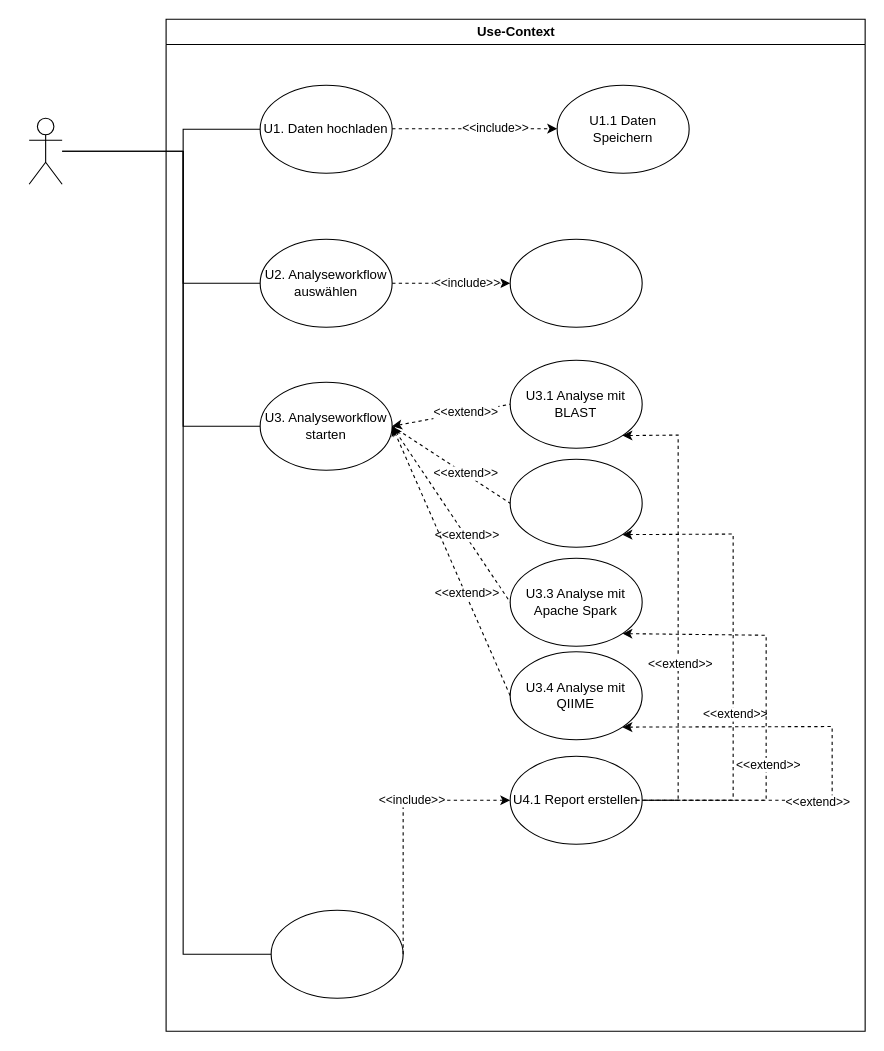
Some shapes in this 884 by 1051 pixel diagram are drawn without their labels. Each missing label, with the box of its shape:
Benutzer: (28, 117, 62, 184)
U2.1 Daten Auswählen / Parameter bestimmen: (509, 238, 642, 327)
U3.2 Analyse mit Galaxy: (509, 458, 642, 547)
U4. Report anzeigen: (270, 909, 403, 998)
